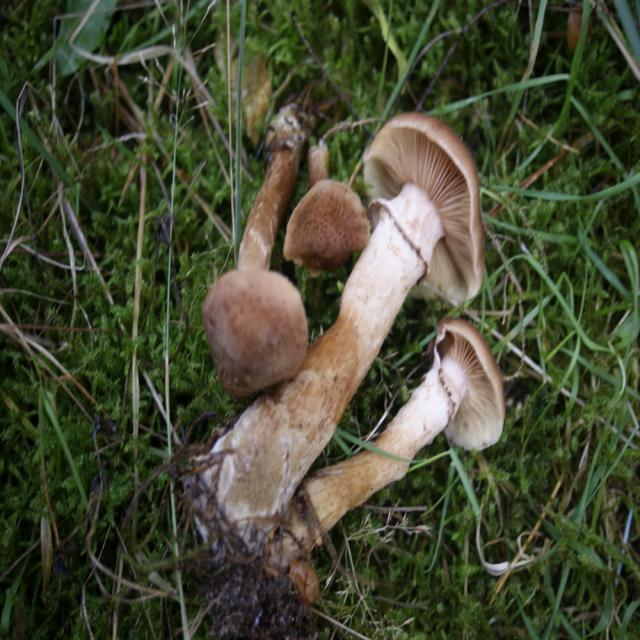Armillaria mellea: (209, 104, 506, 584)
